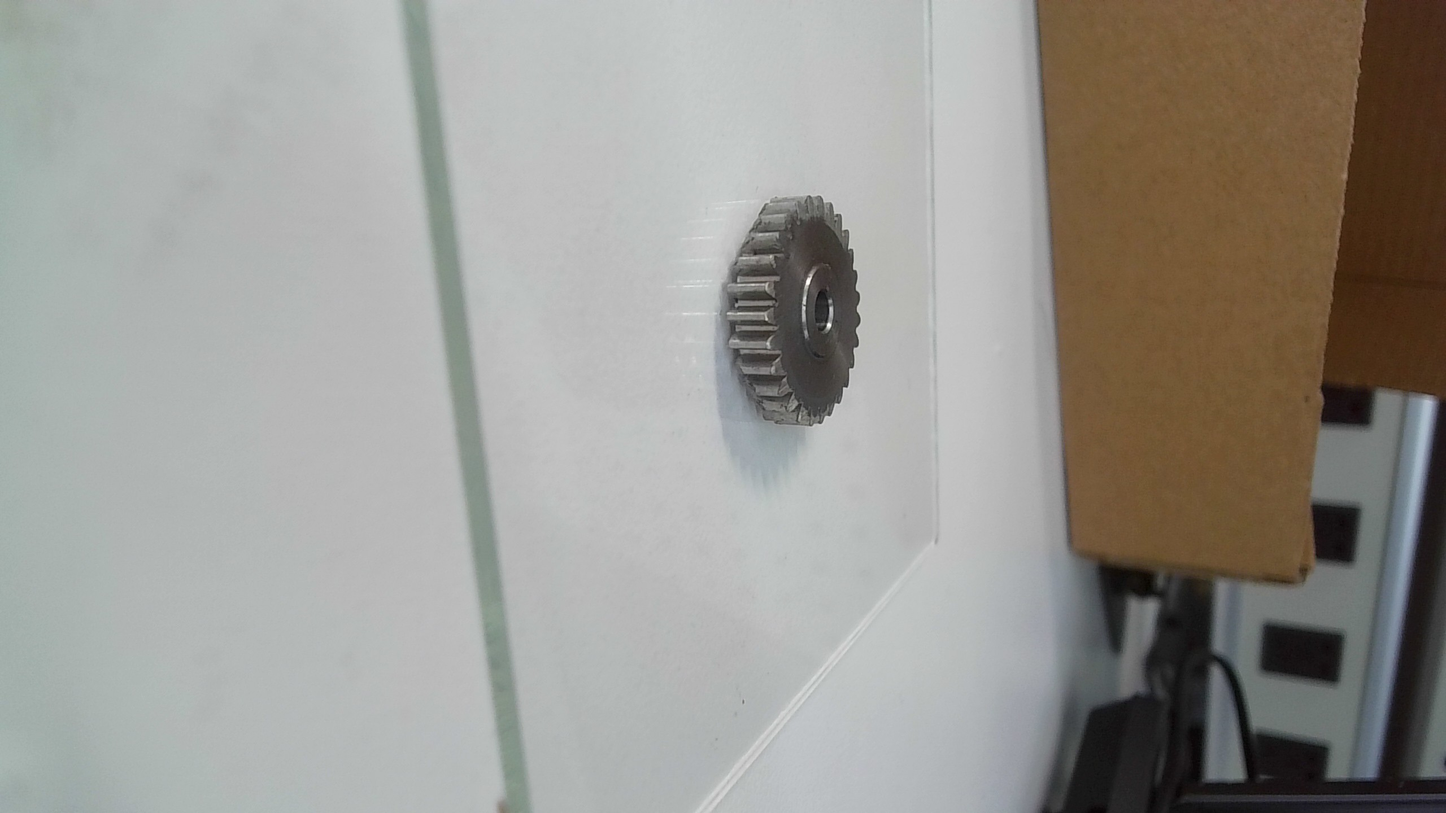gear: (721, 194, 869, 429)
